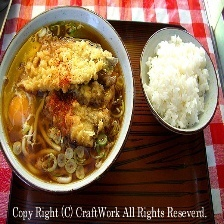rice: (145, 34, 209, 131)
